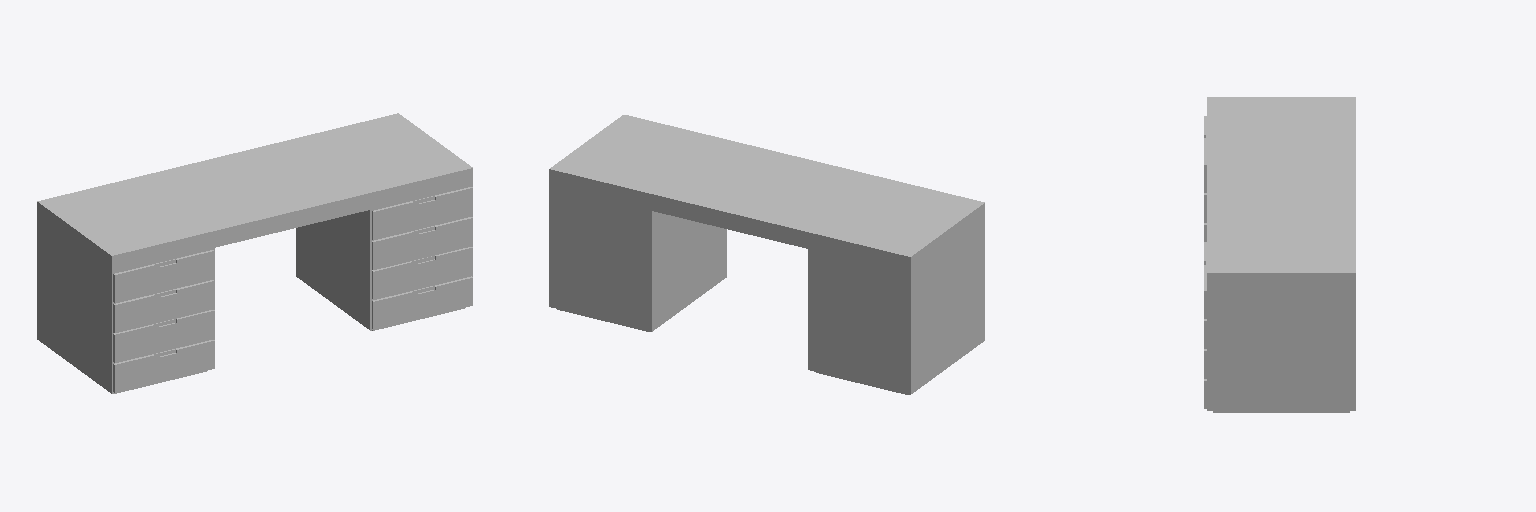
Rendered from desk.obj.
The picture shows the model from 3 angles: view 1: azimuth 30°, elevation 25°; view 2: azimuth 150°, elevation 25°; view 3: azimuth 270°, elevation 25°; orthographic projection.
Visible parts, largest first — view 1: desk, Cube.006_Cube.001, Cube.004_Cube.137, Cube.007_Cube.140, Cube.005_Cube.138, Cube.010_Cube.143, Cube.008_Cube.141, Cube.011_Cube.144, Cube.009_Cube.142; view 2: desk; view 3: desk.
Boxes of the visible parts, x1=… form: desk: x1=37, y1=113, x2=472, y2=393; Cube.006_Cube.001: x1=113, y1=280, x2=214, y2=332; Cube.004_Cube.137: x1=113, y1=340, x2=214, y2=392; Cube.007_Cube.140: x1=113, y1=250, x2=214, y2=302; Cube.005_Cube.138: x1=113, y1=310, x2=214, y2=362; Cube.010_Cube.143: x1=372, y1=217, x2=472, y2=269; Cube.008_Cube.141: x1=372, y1=276, x2=472, y2=329; Cube.011_Cube.144: x1=372, y1=187, x2=472, y2=239; Cube.009_Cube.142: x1=372, y1=247, x2=472, y2=299; desk: x1=549, y1=115, x2=984, y2=394; desk: x1=1207, y1=97, x2=1355, y2=412.
Bounding box in the file's own units: 2.42 × 0.9043 × 0.8828.